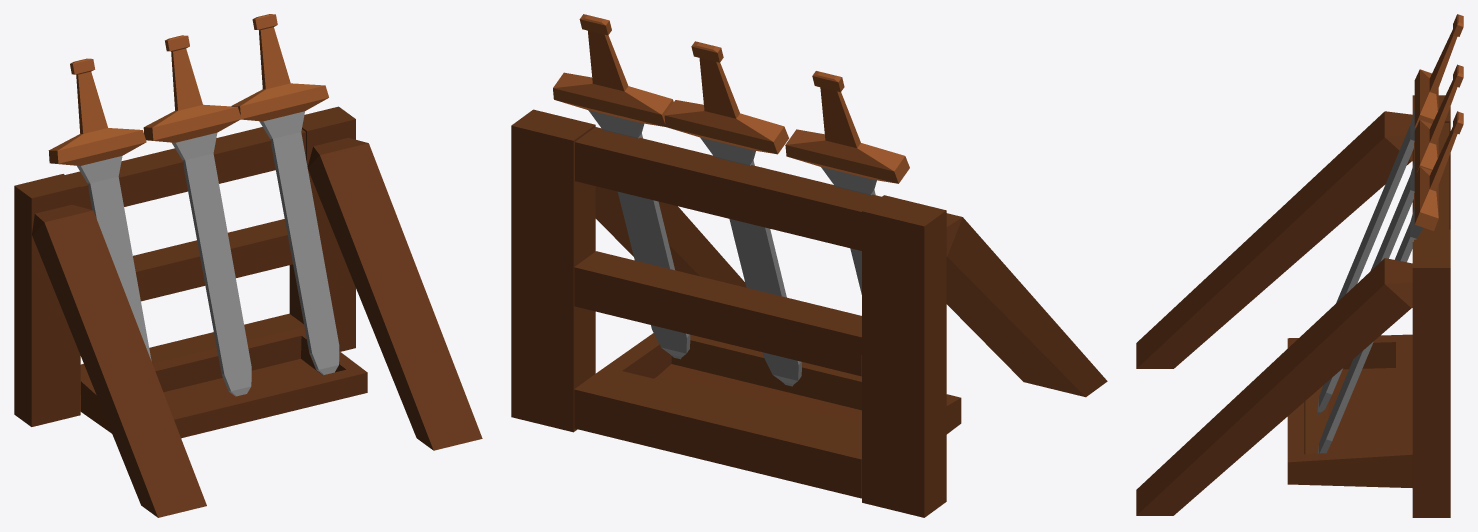
The model's file is Cavalete.fbx.
3 views of the same model, side by side, from view 1: azimuth 30°, elevation 25°; view 2: azimuth 150°, elevation 25°; view 3: azimuth 270°, elevation 25° (orthographic). The views are drawn at different scales.
Visible parts, largest first — view 1: Cube; view 2: Cube; view 3: Cube.
Boxes of the visible parts, x1=… form: Cube: x1=14, y1=14, x2=482, y2=517; Cube: x1=511, y1=14, x2=1107, y2=517; Cube: x1=1136, y1=14, x2=1463, y2=517.
Size of the model in its own units: 236 by 232 by 188.
